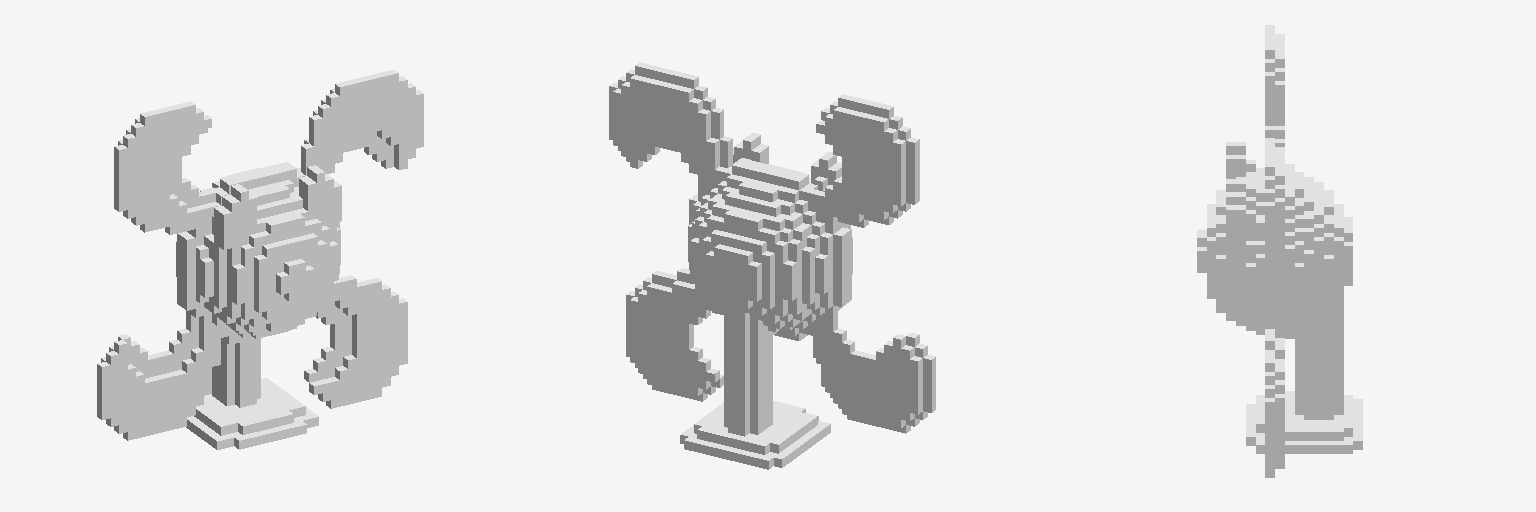
The model's file is Hywwi.obj.
3 renders of one model, left to right at view 1: azimuth 30°, elevation 25°; view 2: azimuth 150°, elevation 25°; view 3: azimuth 270°, elevation 25°, orthographic.
Parts seen in each view (by area): view 1: object 1; view 2: object 1; view 3: object 1.
Part boxes in pixels (x1,y1,x2,y2): object 1: (97,70,423,449); object 1: (609,62,935,469); object 1: (1197,25,1362,477).
Bounding box in the file's own units: 3.8 × 3.9 × 1.7.